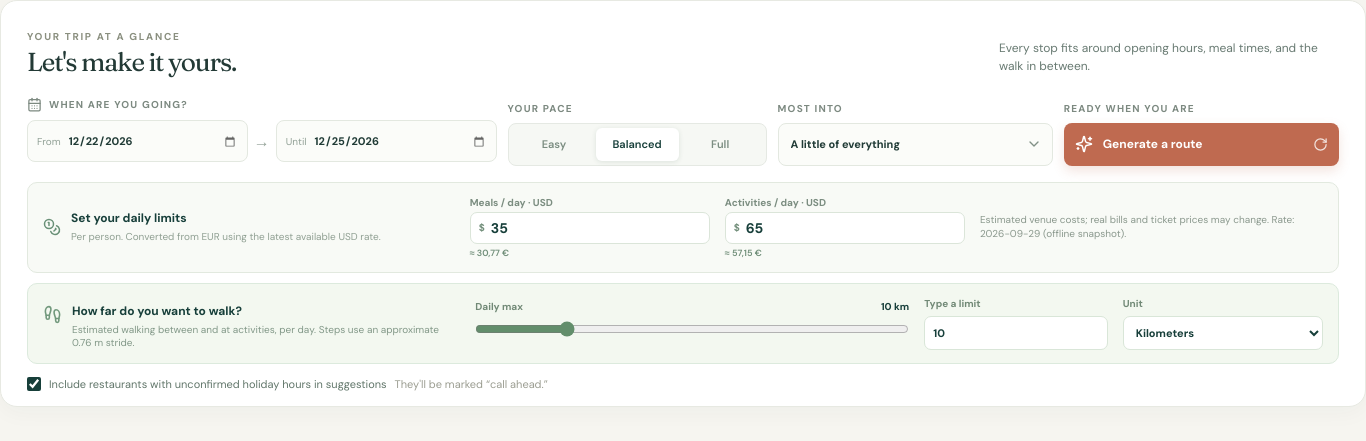
date controls › checks a changed date range before generating a new route
Type "2026-12-20" into the date field named "Trip end date" at (400, 141), box [314,133,486,149]
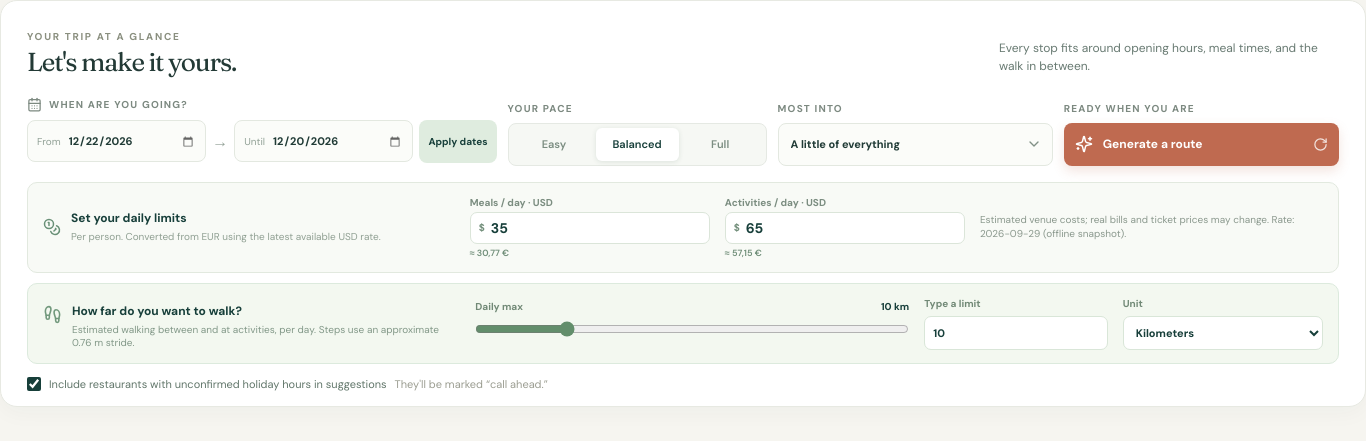
Click the button "Generate a route" at (1201, 144), box [1064,123,1339,166]
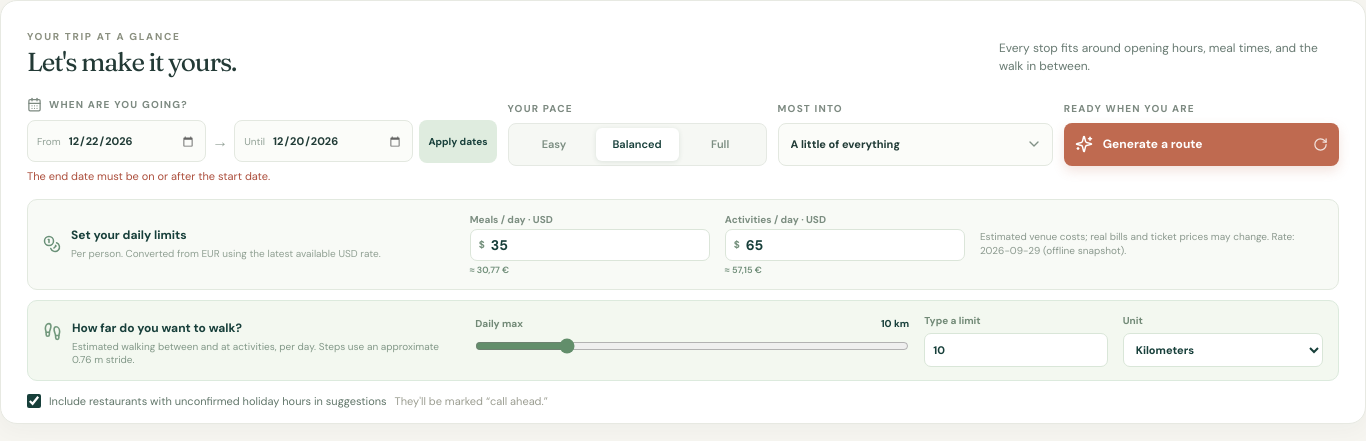
Now the message shows "end date", box [27,169,270,183]
